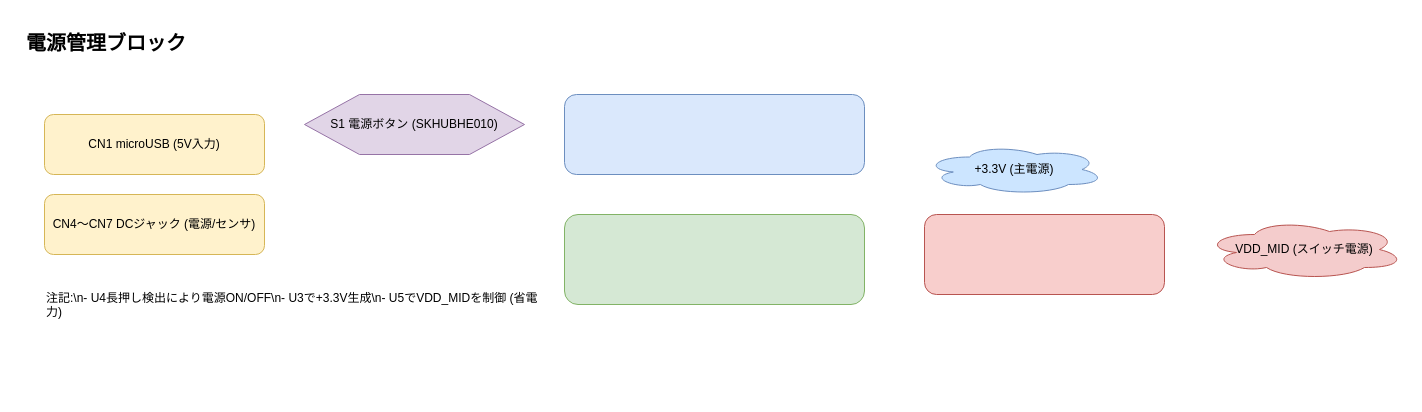
The diagram is 1422 pixels wide and 412 high, and some of its shapes have lost their labels. The centre of each missing label's shape, as x and y in pixels:
U3 TPS630250 昇降圧DC-DC\nVout=+3.3V: the point at 714,259
U4 LTC2955 プッシュボタン電源コントローラ: the point at 714,134
U5 TPS22919 ロードスイッチ: the point at 1044,254
